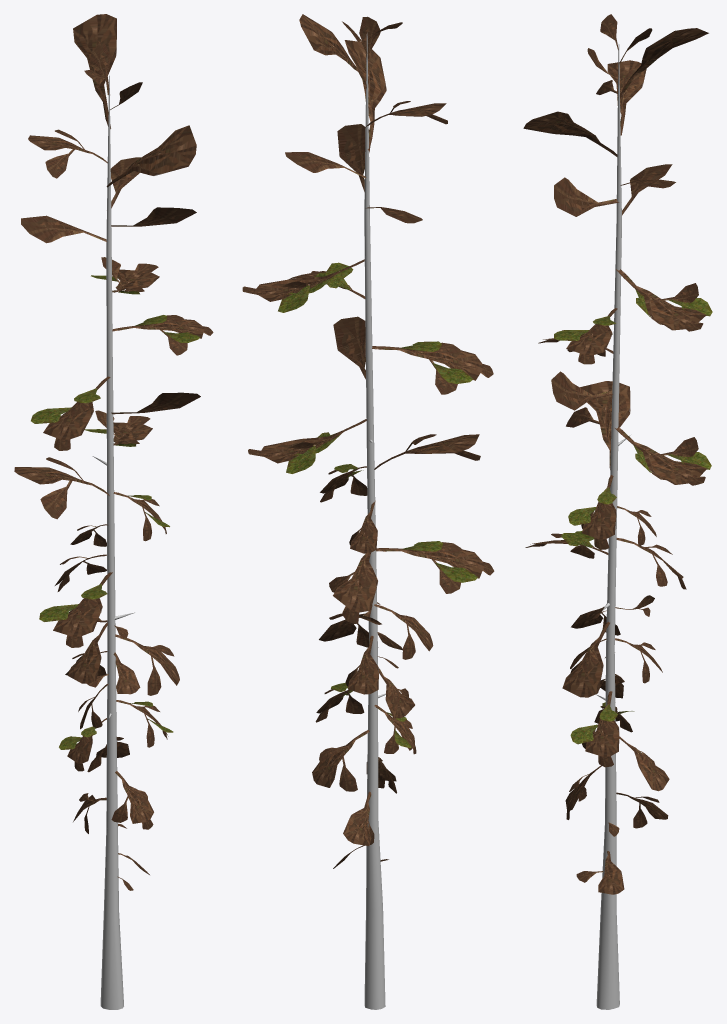
File: tree_narrow_02.obj
3 renders of one model, left to right at view 1: azimuth 30°, elevation 25°; view 2: azimuth 150°, elevation 25°; view 3: azimuth 270°, elevation 25°, orthographic. The views are drawn at different scales.
Visible parts, largest first — view 1: Tree_Narrow_02; view 2: Tree_Narrow_02; view 3: Tree_Narrow_02.
Part boxes in pixels (bbox=[...]): Tree_Narrow_02: bbox=[14, 14, 213, 1009]; Tree_Narrow_02: bbox=[242, 14, 494, 1009]; Tree_Narrow_02: bbox=[523, 14, 712, 1009].
Bounding box in the file's own units: 9.28 × 45.86 × 7.92.
